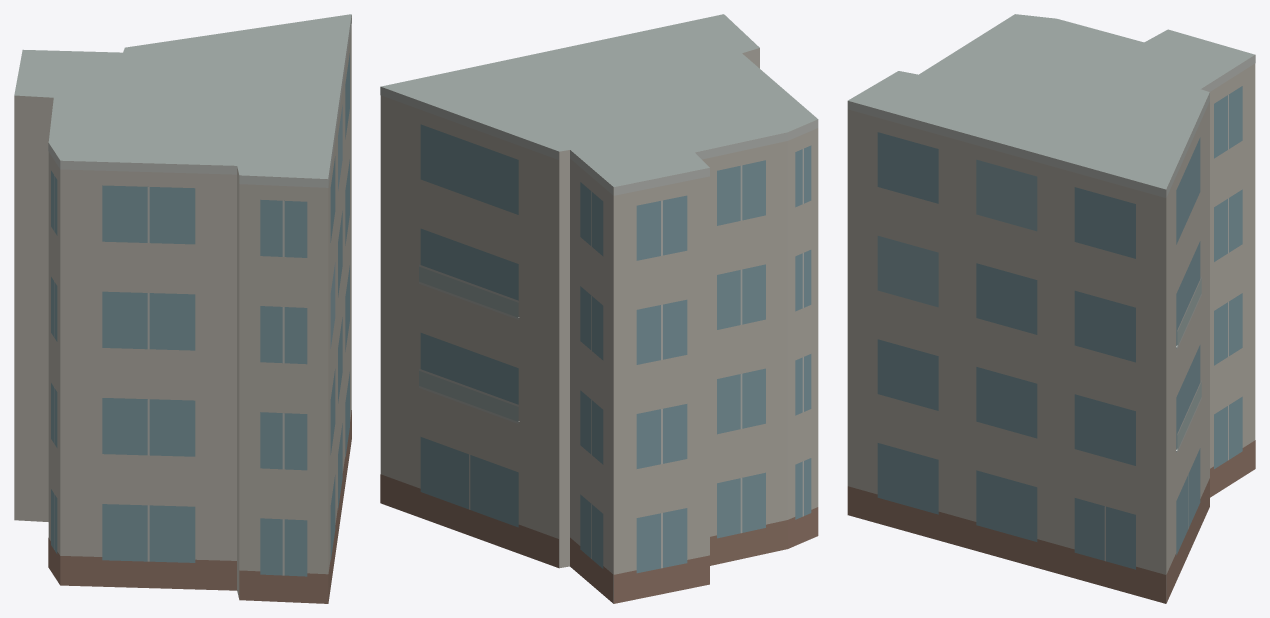
File: survey-upis-32462115.glb
3 views of the same model, side by side, from view 1: azimuth 30°, elevation 25°; view 2: azimuth 150°, elevation 25°; view 3: azimuth 270°, elevation 25° (orthographic). The views are drawn at different scales.
Visible parts, largest first — view 1: survey-upis-32462115.tmp; view 2: survey-upis-32462115.tmp; view 3: survey-upis-32462115.tmp.
Part boxes in pixels (<box>): survey-upis-32462115.tmp: <box>14,14,351,603</box>; survey-upis-32462115.tmp: <box>380,14,818,603</box>; survey-upis-32462115.tmp: <box>847,14,1255,603</box>.
Bounding box in the file's own units: 10.73 × 11.8 × 10.53.
